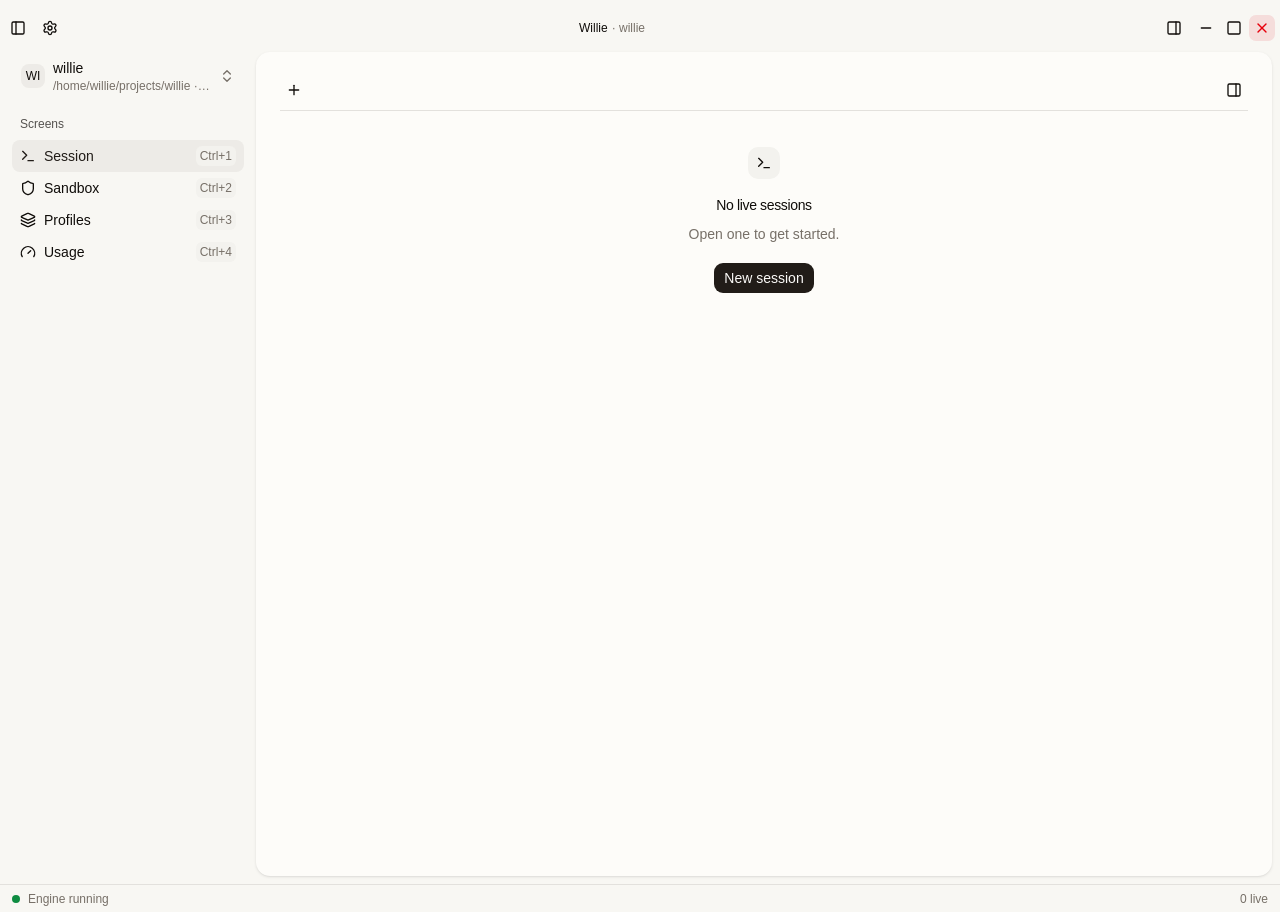
Test: the workspace panel › the_panel_opens_from_the_header_on_/session
Step 1. Click the button named "Workspace panel" → (1174, 28), box [1160, 14, 1188, 42]
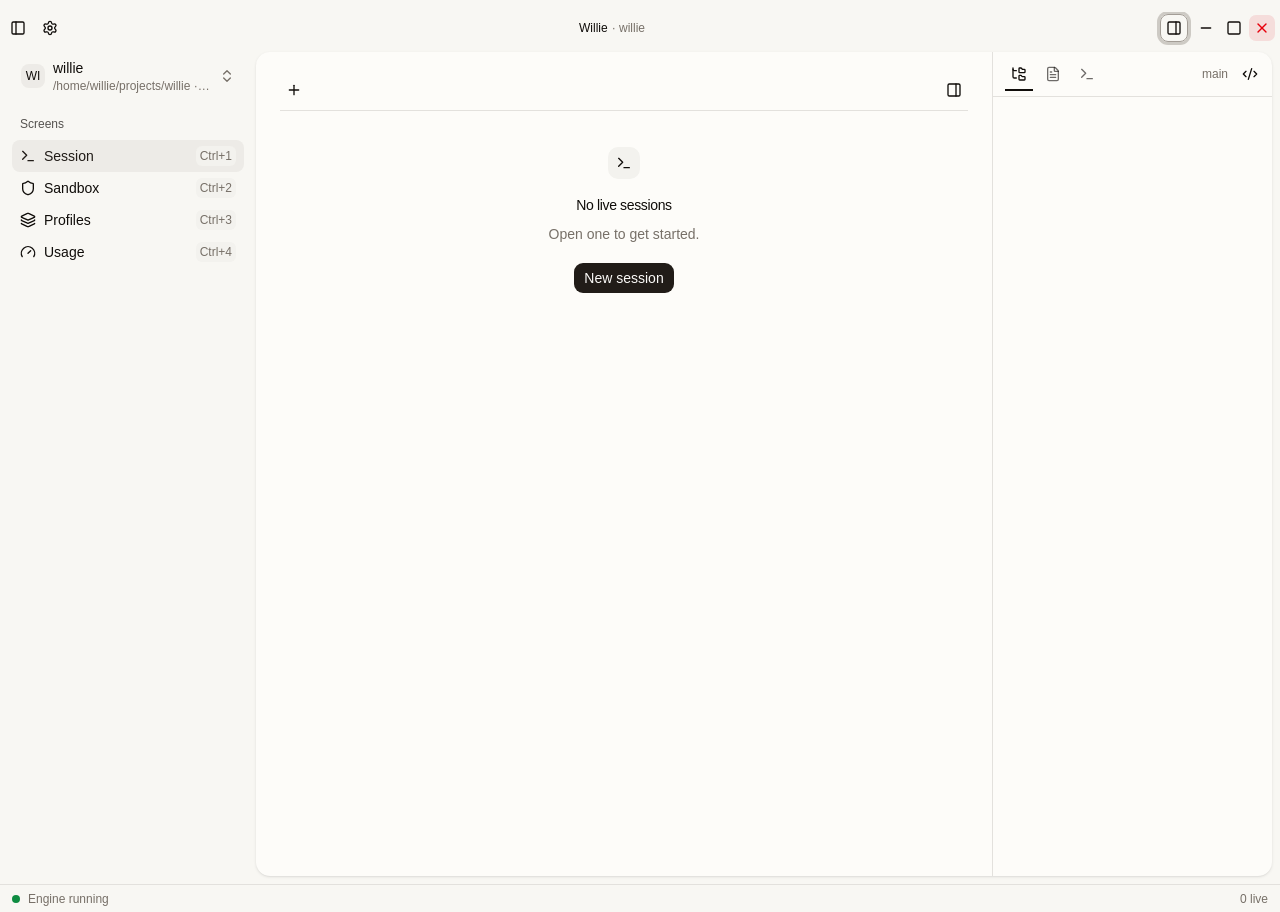
Check: the element named "Workspace panel" is shown, box [992, 52, 1272, 876]
